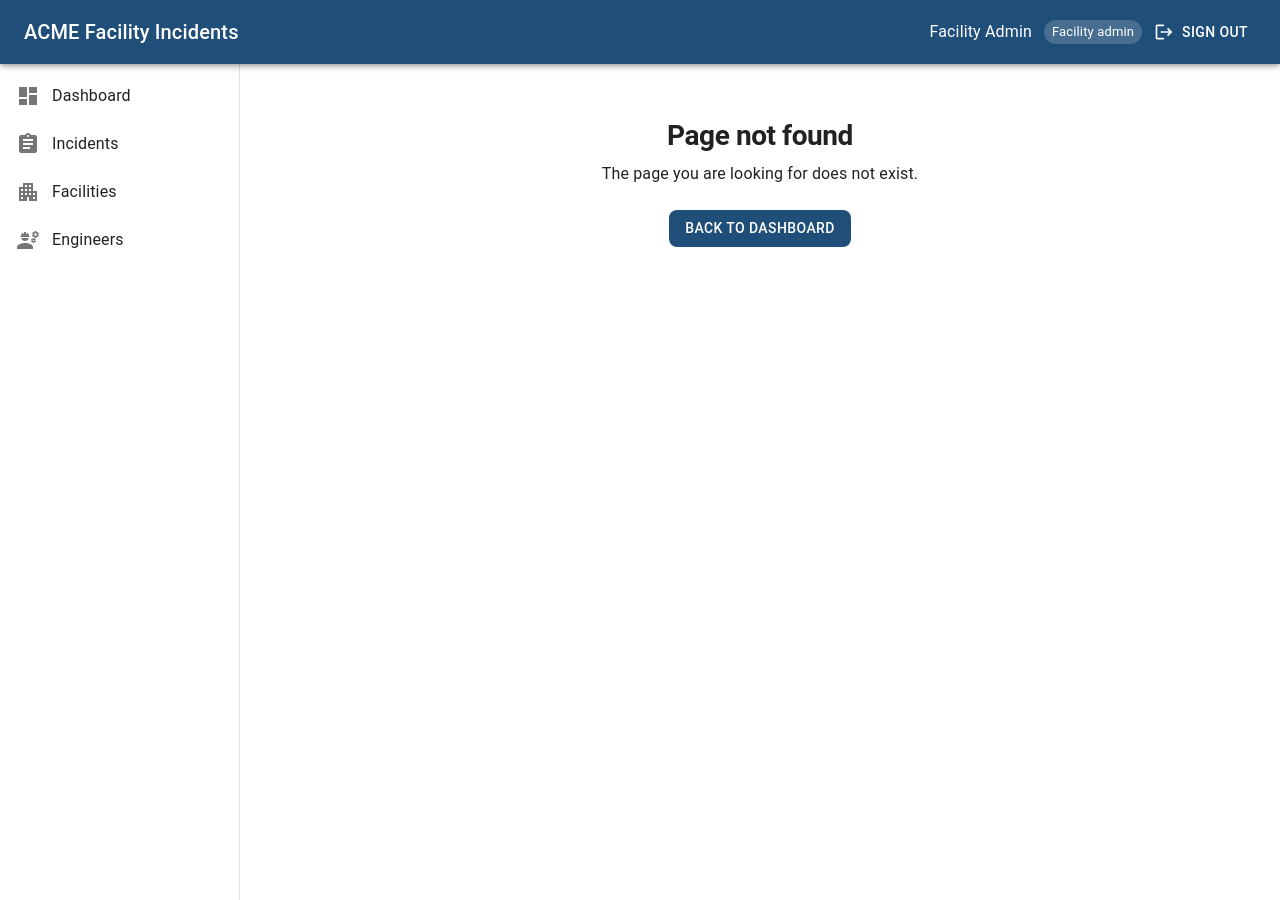
Test case: App › signing out forgets the page, so the next sign-in starts on the dashboard
Expected: the heading "Page not found" is shown, [667,119,853,152]
Click the button "Sign out" at [1203, 32], box [1150,14,1256,50]
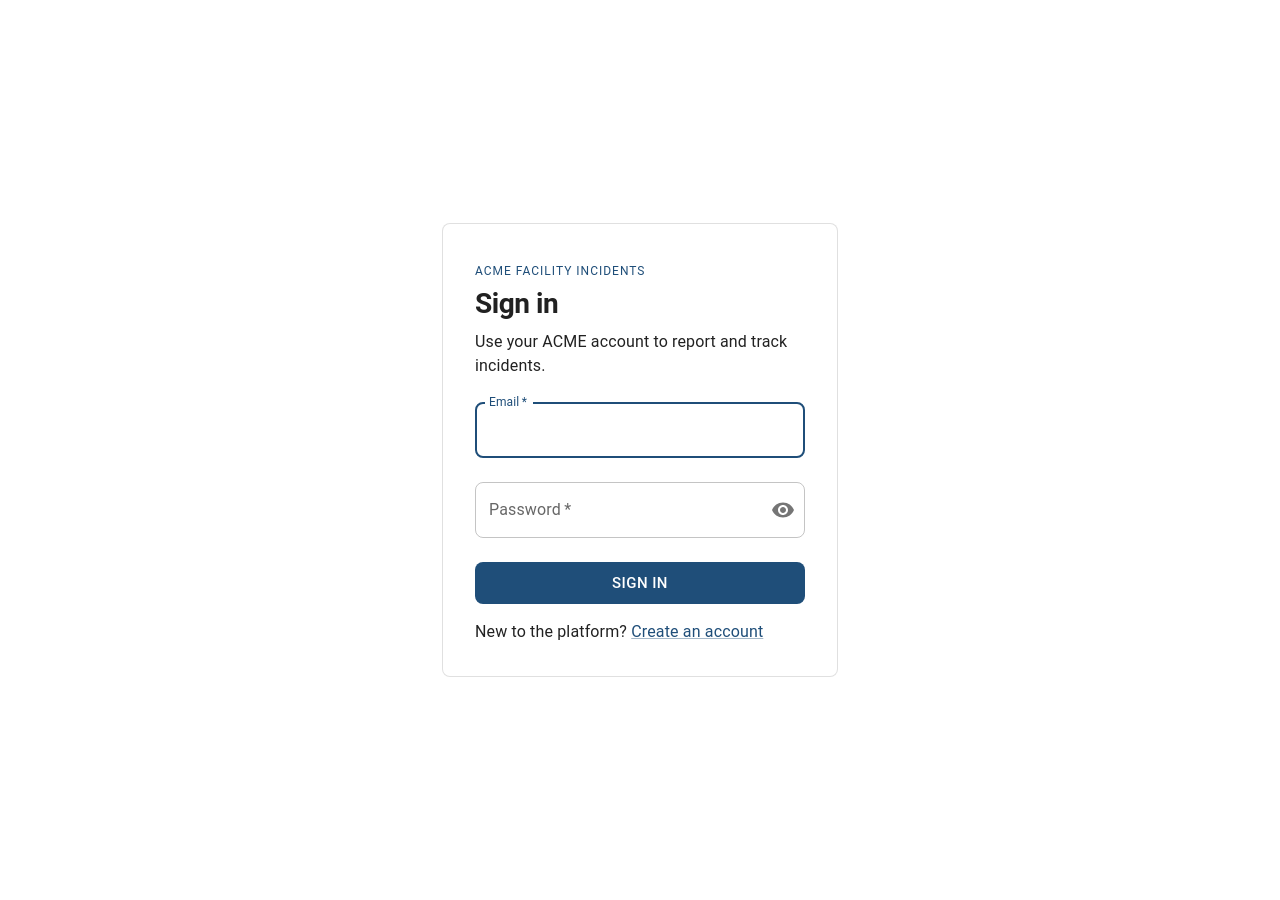
Type "alice@acme.inc" into the field labelled "Email *" at [640, 430], box [475,402,805,458]
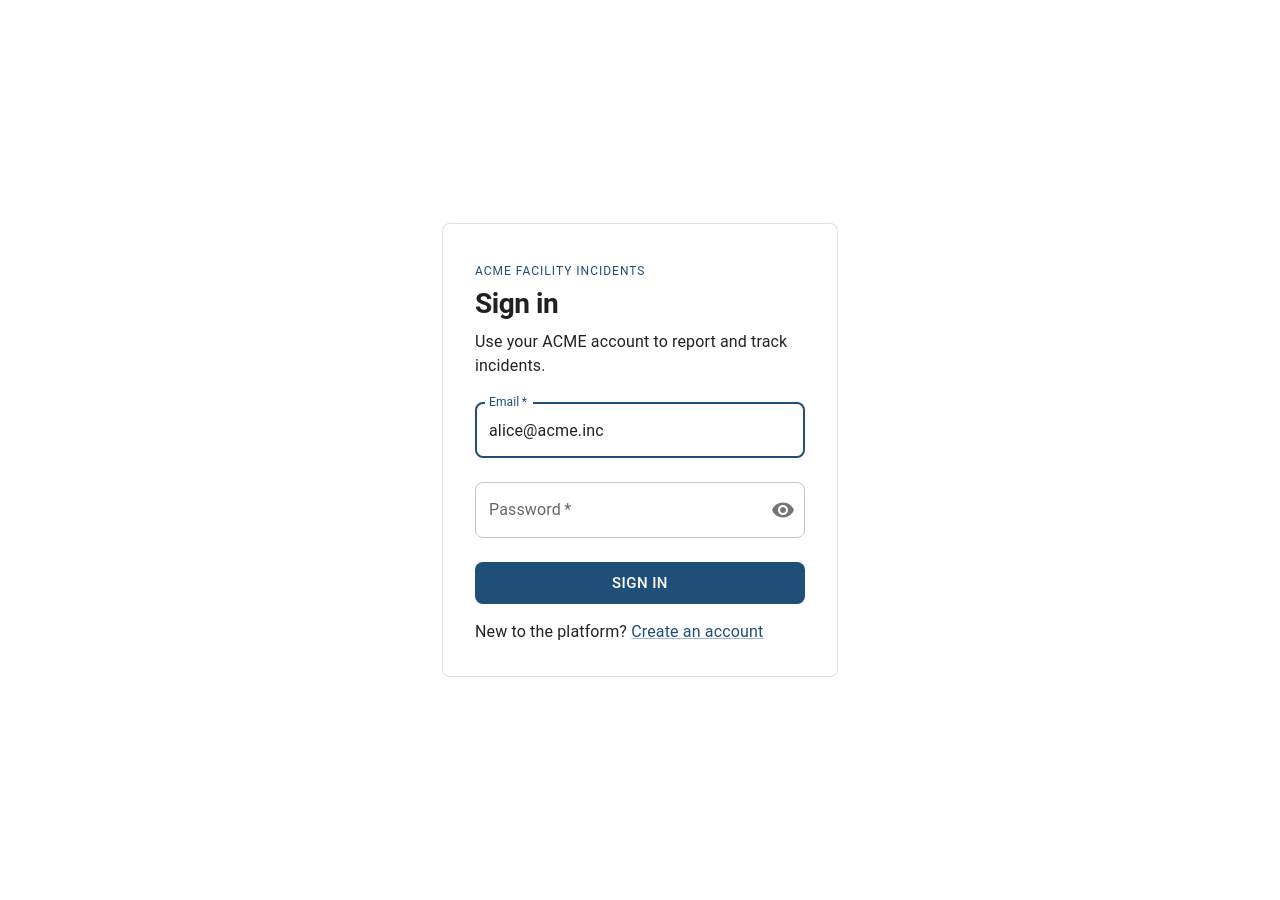
Type "Password123" into the password field labelled "Password *" at [615, 510], box [475,482,755,538]
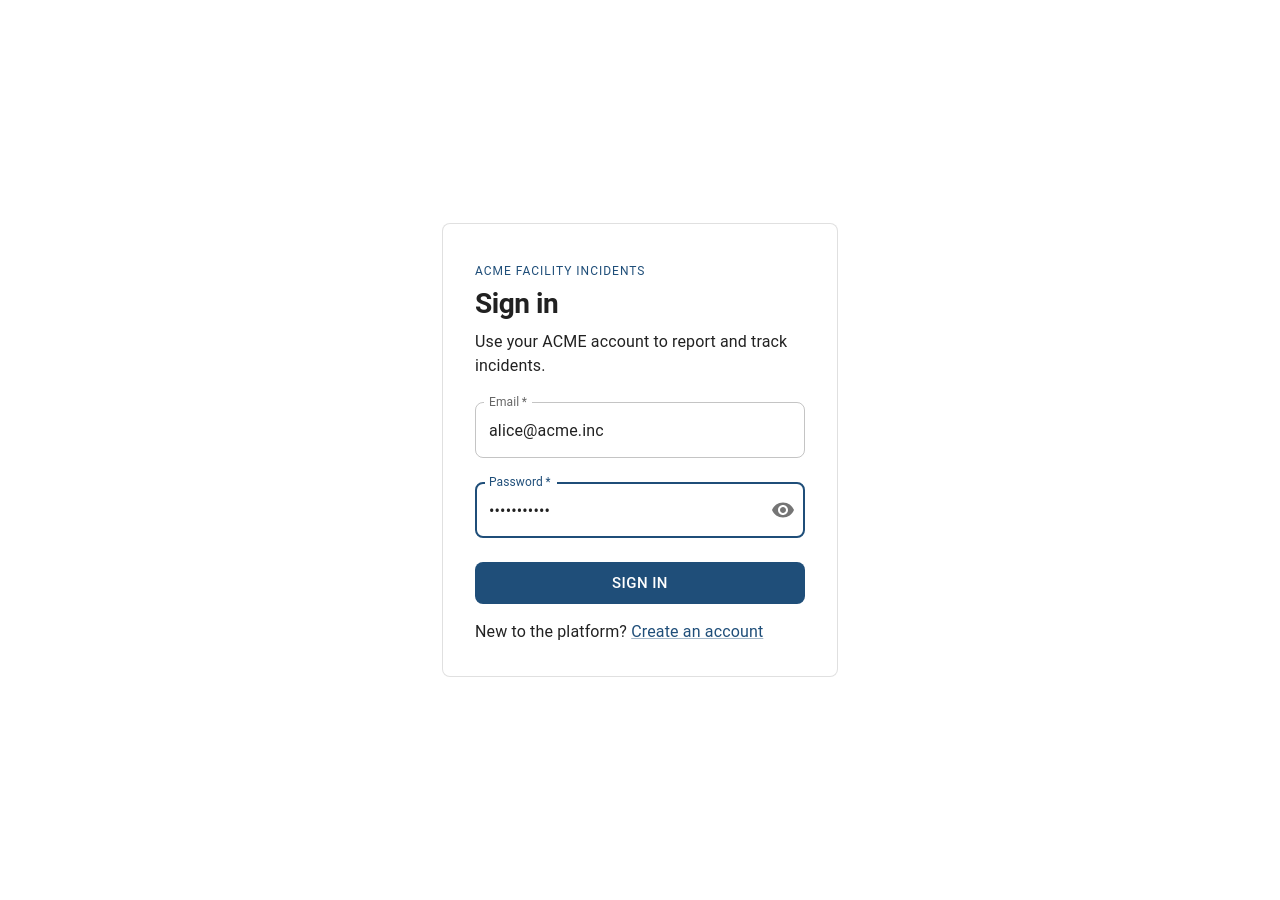
Click the button "Sign in" at [640, 583], box [475,562,805,604]
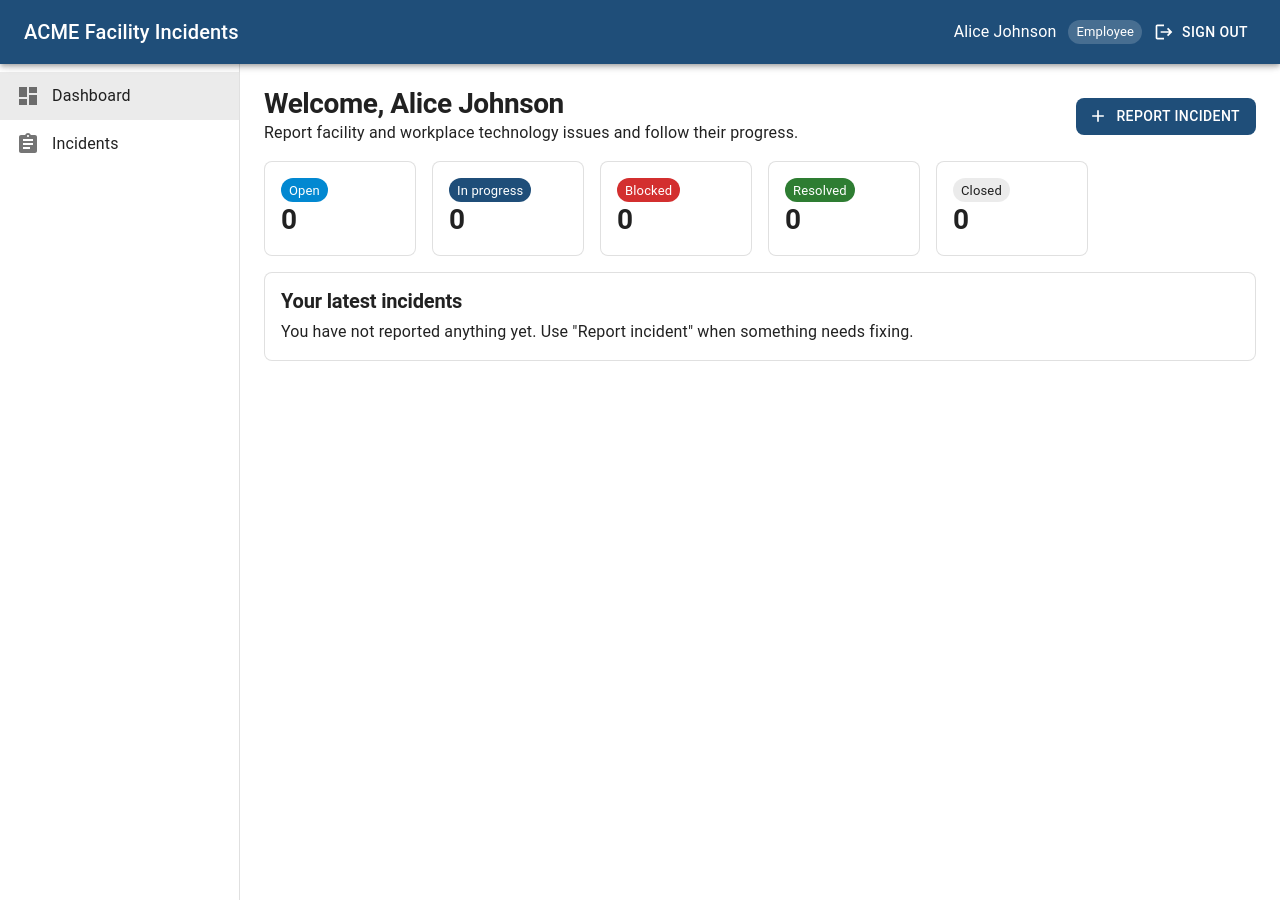
Result: the heading "Welcome, Alice Johnson" is shown at [264,87,564,120]
